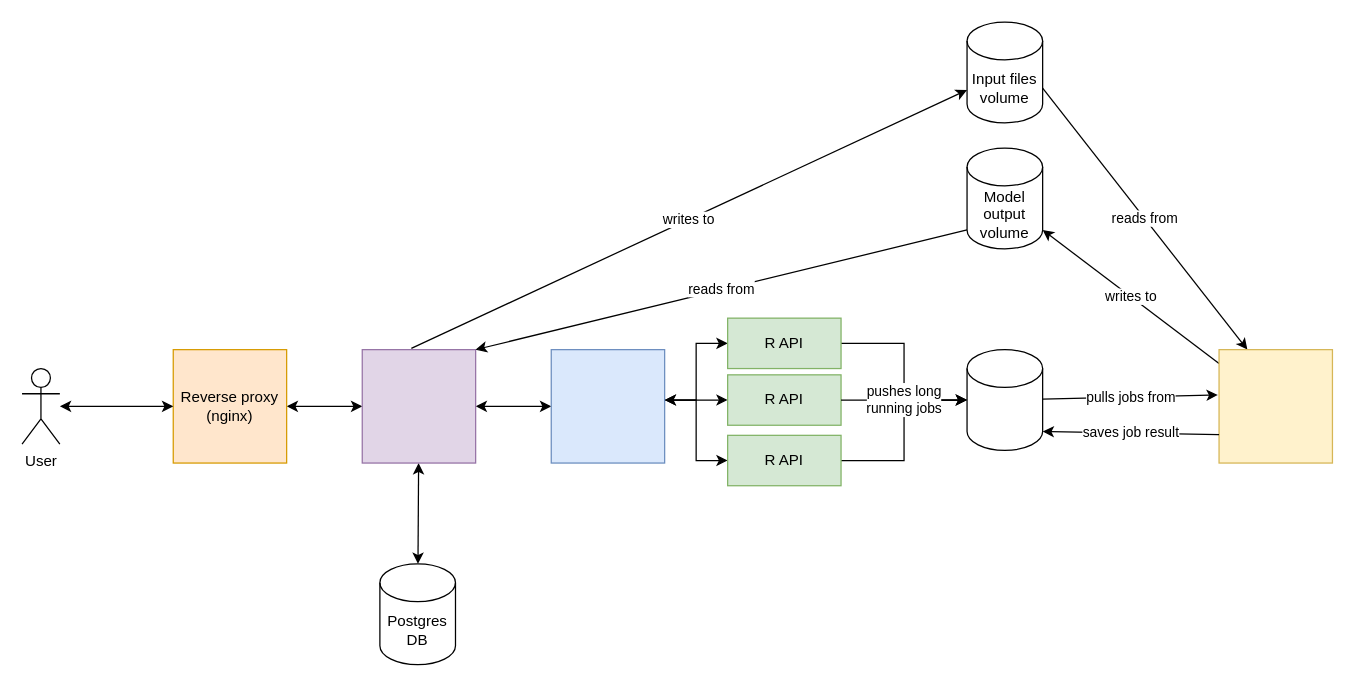
The diagram is 1355 pixels wide and 687 high, and some of its shapes have lost their labels. Here are the shapes that lost their labels. From the top down, the box of each, then its label:
(361, 348, 476, 463): Web backend (kotlin)
(550, 348, 665, 463): Load balancer (haproxy)
(966, 348, 1043, 450): Queue (redis)
(1218, 348, 1332, 463): Worker pool
